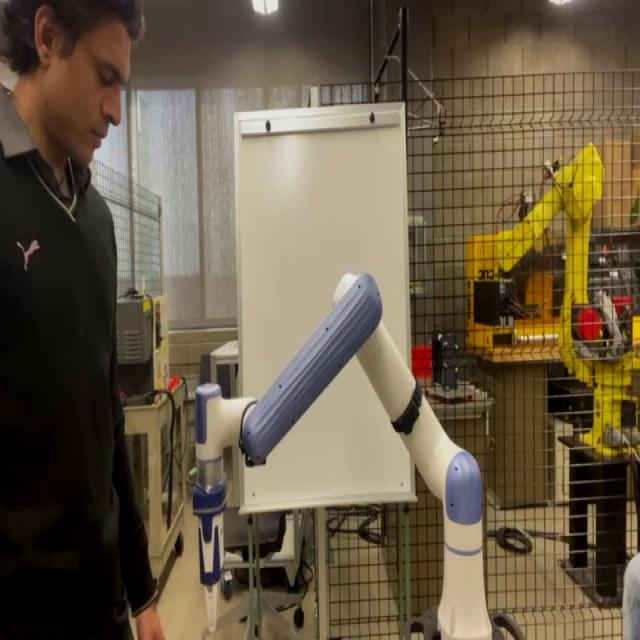robot: (192, 270, 524, 638)
